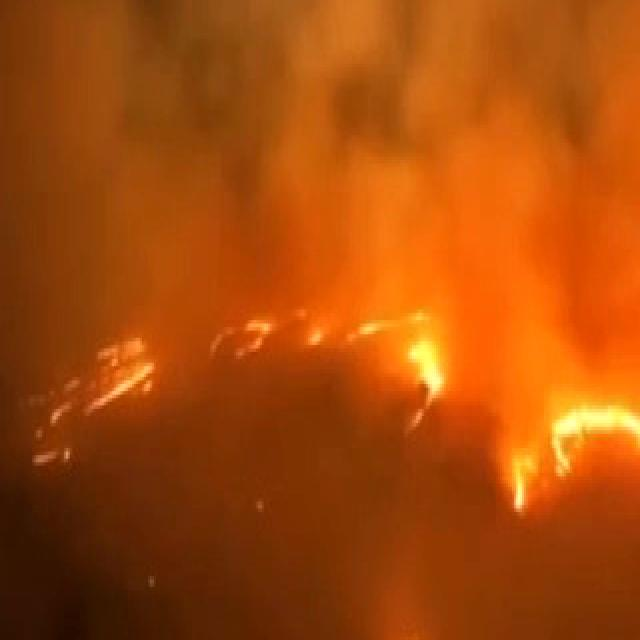smoke: (260, 0, 640, 206)
